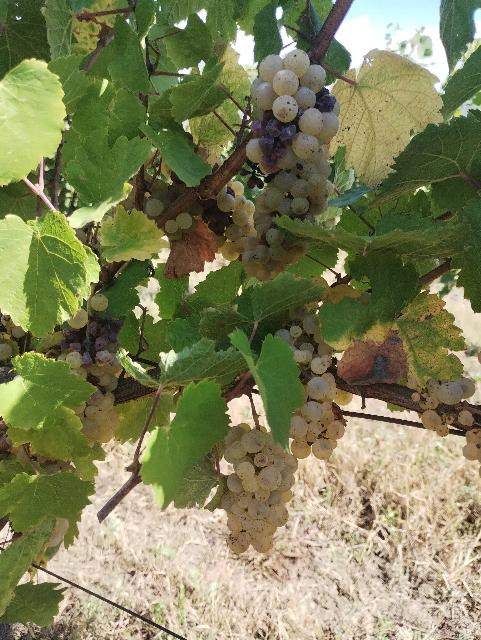grapes: (241, 49, 340, 281), (275, 305, 346, 460), (221, 424, 298, 554)
